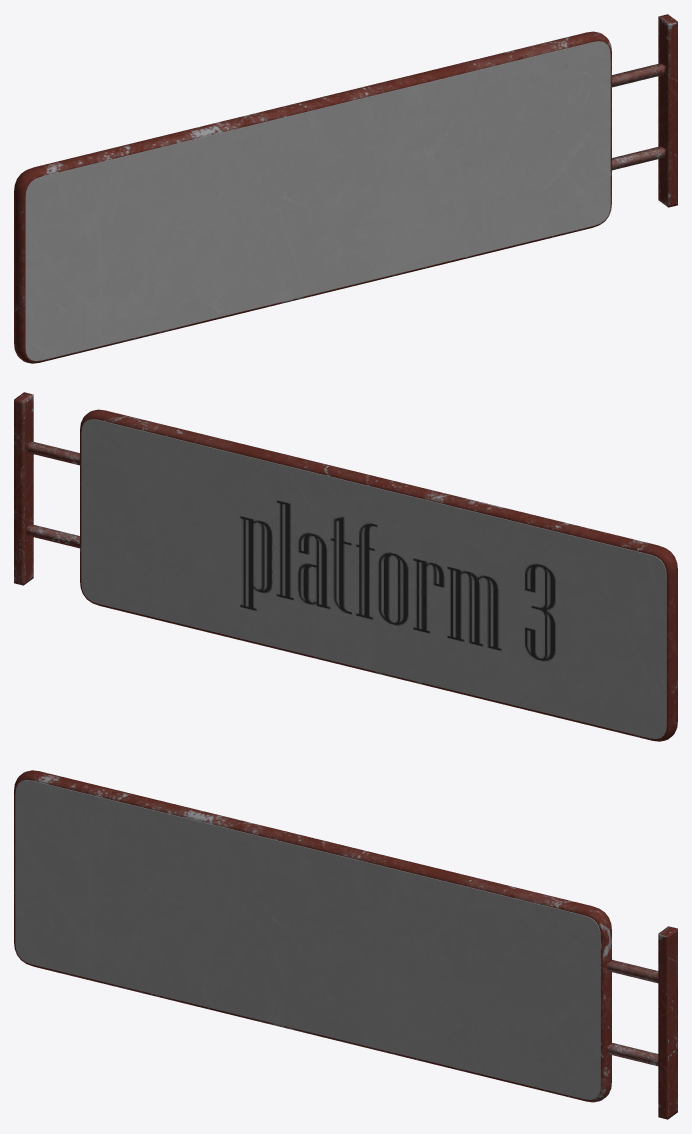
The model's file is SM_Sign3.FBX.
3 renders of one model, top to bottom at view 1: azimuth 30°, elevation 25°; view 2: azimuth 150°, elevation 25°; view 3: azimuth 330°, elevation 25°, orthographic.
Parts seen in each view (by area): view 1: SM_Sign3; view 2: SM_Sign3; view 3: SM_Sign3.
Part boxes in pixels (x1,y1,x2,y2): SM_Sign3: (14, 14, 677, 363); SM_Sign3: (14, 392, 677, 741); SM_Sign3: (14, 770, 677, 1119).
Size of the model in its own units: 112 by 3 by 31.62.
